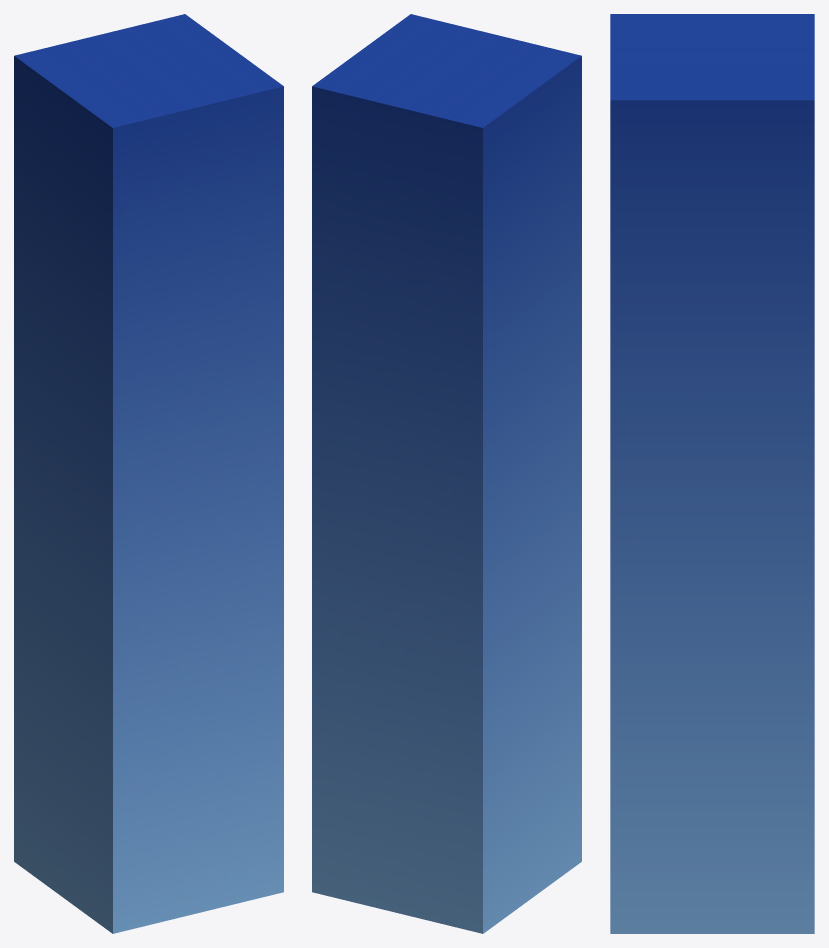
Rendered from worm0012.obj.
The picture shows the model from 3 angles, left to right: view 1: azimuth 30°, elevation 25°; view 2: azimuth 150°, elevation 25°; view 3: azimuth 270°, elevation 25°; orthographic projection. The views are drawn at different scales.
Parts seen in each view (by area): view 1: Cube; view 2: Cube; view 3: Cube.
Part boxes in pixels (bbox=[...]): Cube: bbox=[14, 14, 283, 933]; Cube: bbox=[312, 14, 581, 933]; Cube: bbox=[610, 14, 814, 933].
Bounding box in the file's own units: 8 × 36 × 8.
Materials: 1 (1 with a texture image).
